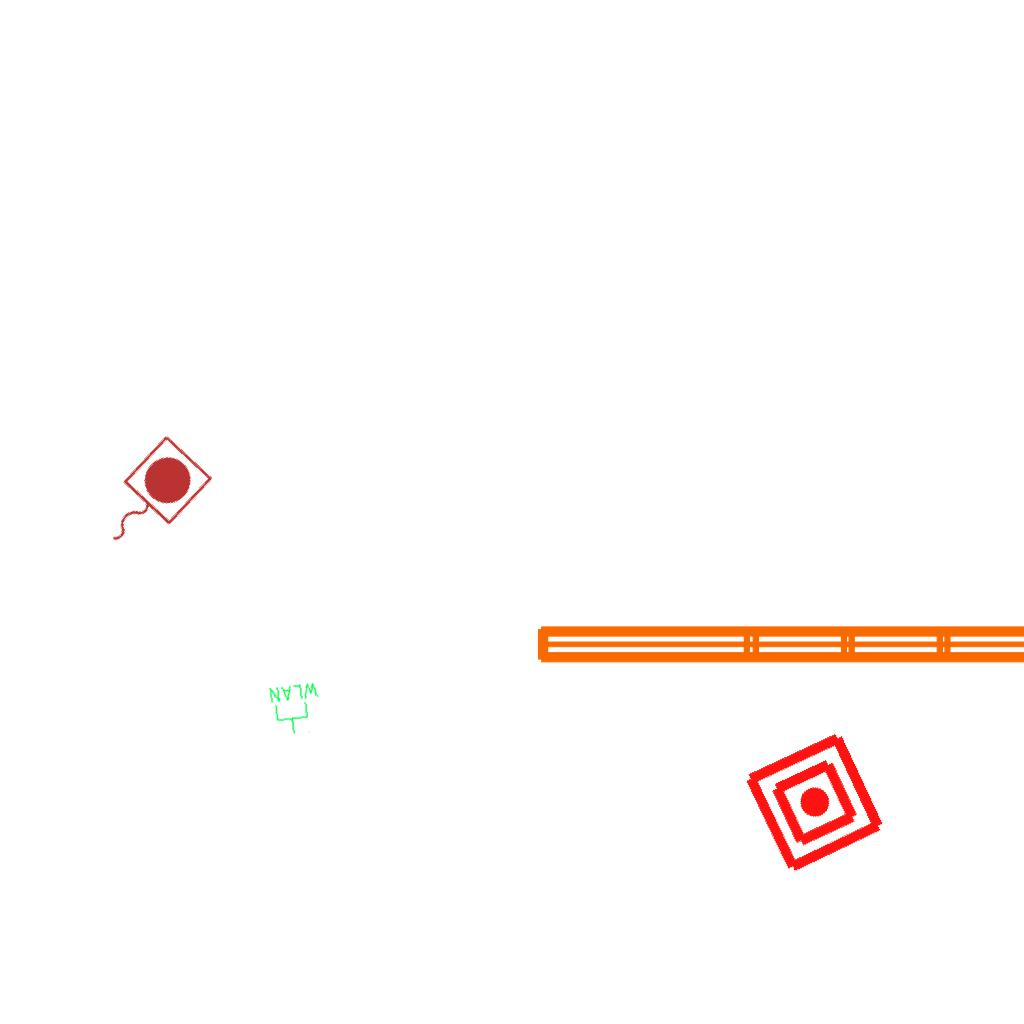Ambulanz_Pendelleuchte_LED: (527, 563, 1024, 675)
NAM-Nichtautomatischer_Melder: (739, 727, 890, 878)
WLAN: (267, 680, 325, 738)
Zugtaster: (82, 428, 218, 568)
